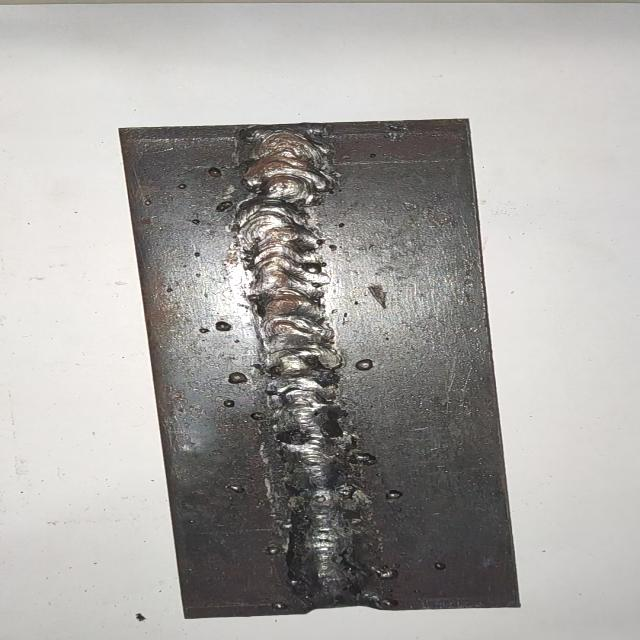Bad Weld: (230, 128, 375, 601)
Defect: (331, 443, 408, 508), (214, 366, 280, 423), (353, 555, 412, 610), (203, 310, 273, 342), (322, 348, 380, 383)
